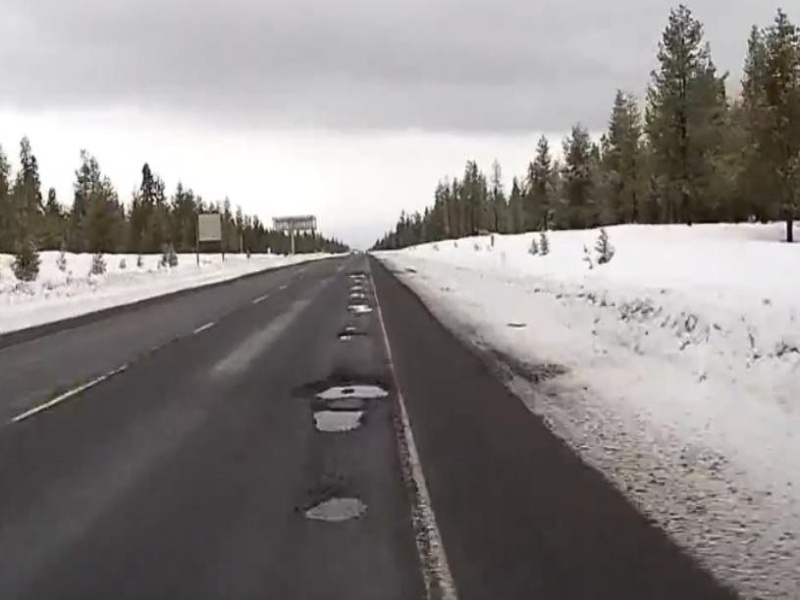pothole: (300, 372, 393, 402), (302, 492, 370, 527), (310, 405, 370, 439)
